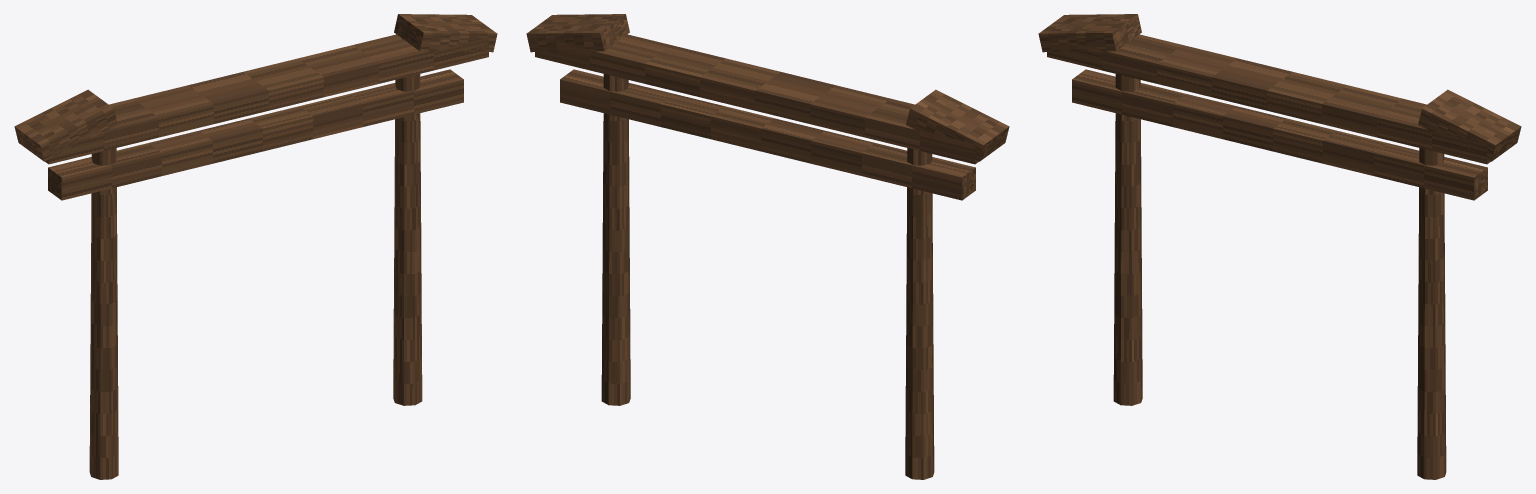
The model's file is gate_46.glb.
The picture shows the model from 3 angles, left to right: view 1: azimuth 30°, elevation 25°; view 2: azimuth 150°, elevation 25°; view 3: azimuth 330°, elevation 25°; orthographic projection.
Parts seen in each view (by area): view 1: Roof, Lintel, Pillar.001, Pillar, RaisedEave, RaisedEave.001; view 2: Roof, Lintel, Pillar.001, Pillar, RaisedEave, RaisedEave.001; view 3: Roof, Lintel, Pillar, Pillar.001, RaisedEave.001, RaisedEave.
Part boxes in pixels (bbox=[...]): Roof: bbox=[45, 34, 488, 164]; Lintel: bbox=[48, 69, 463, 200]; Pillar.001: bbox=[393, 74, 422, 405]; Pillar: bbox=[89, 148, 118, 479]; RaisedEave: bbox=[14, 89, 117, 161]; RaisedEave.001: bbox=[394, 14, 497, 52]; Roof: bbox=[535, 34, 978, 164]; Lintel: bbox=[560, 69, 975, 200]; Pillar.001: bbox=[601, 74, 630, 405]; Pillar: bbox=[905, 148, 934, 479]; RaisedEave: bbox=[906, 89, 1009, 161]; RaisedEave.001: bbox=[526, 14, 629, 52]; Roof: bbox=[1047, 34, 1490, 164]; Lintel: bbox=[1072, 69, 1487, 200]; Pillar: bbox=[1113, 74, 1142, 405]; Pillar.001: bbox=[1417, 148, 1446, 479]; RaisedEave.001: bbox=[1418, 89, 1521, 161]; RaisedEave: bbox=[1038, 14, 1141, 52].
Bounding box in the file's own units: 6.66 × 5.23 × 0.65.
1 material, 1 textured.
